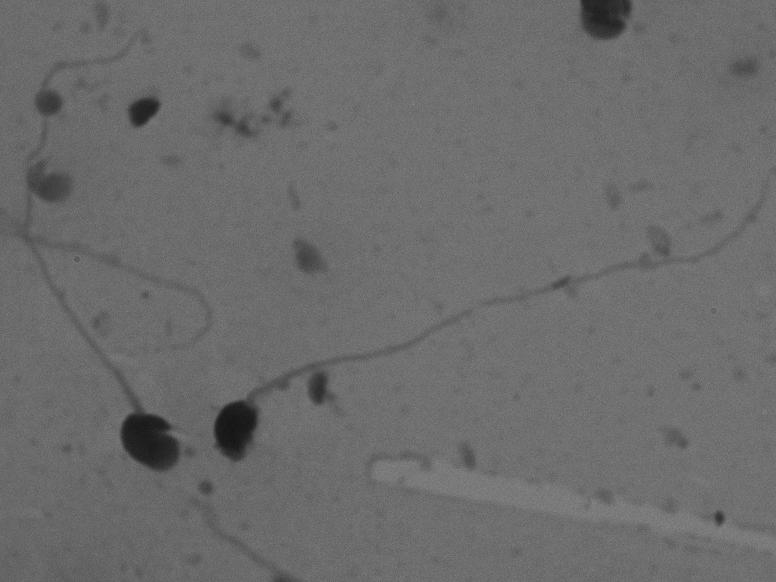Abnormal: (200, 153, 739, 476), (8, 21, 196, 521)
